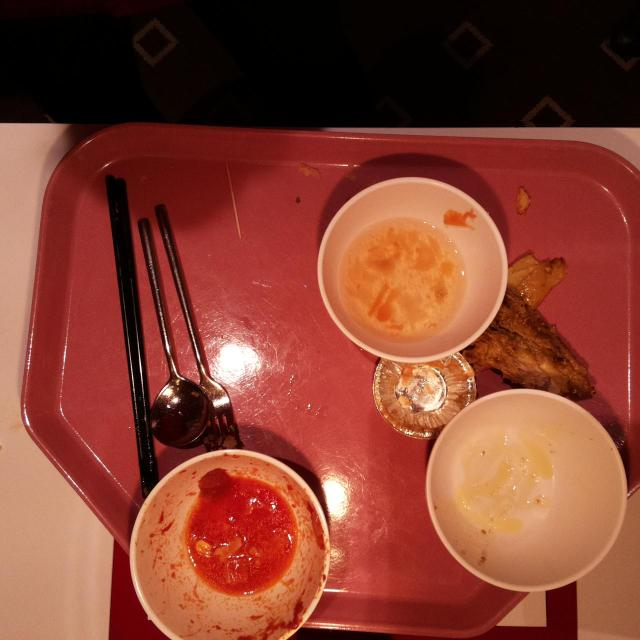Meat: (484, 290, 586, 386)
